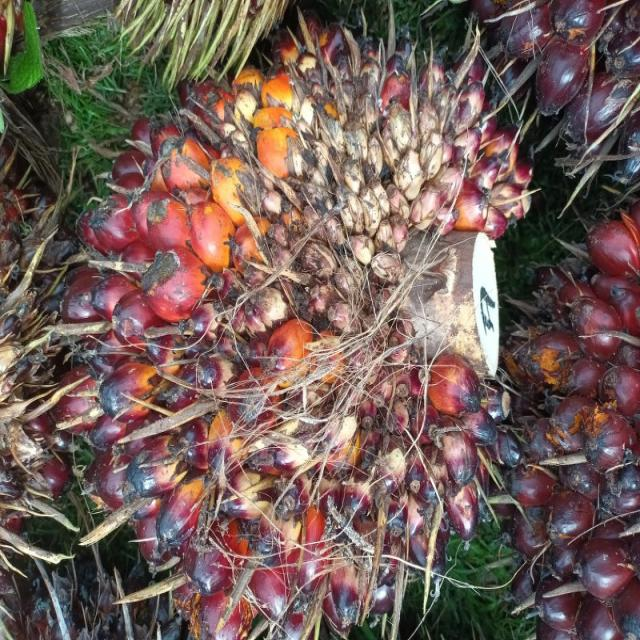fraksi 1: (9, 77, 468, 640)
